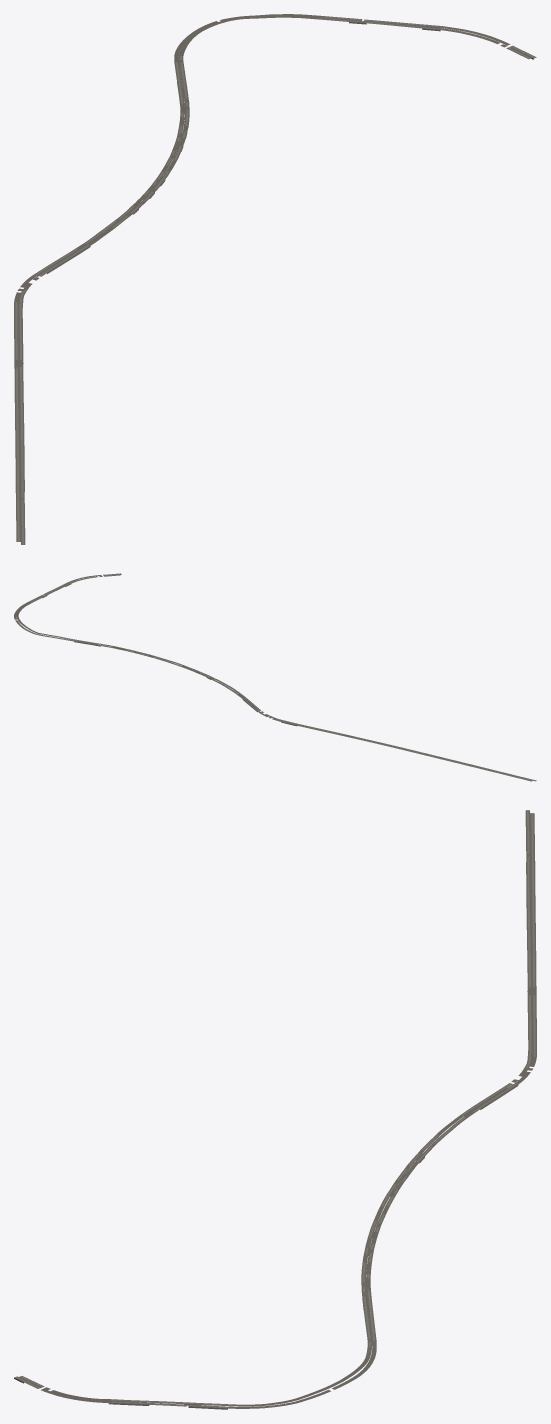
The model's file is br_k209_valley_line_track_lod2.gltf.
The picture shows the model from 3 angles, top to bottom: view 1: azimuth 90°, elevation 25°; view 2: azimuth 150°, elevation 25°; view 3: azimuth 270°, elevation 25°; orthographic projection. The views are drawn at different scales.
Parts seen in each view (by area): view 1: br_k209_valley_line_track_lod2; view 2: br_k209_valley_line_track_lod2; view 3: br_k209_valley_line_track_lod2.
Boxes of the visible parts, bbox=[...] form: br_k209_valley_line_track_lod2: bbox=[14, 14, 536, 544]; br_k209_valley_line_track_lod2: bbox=[14, 573, 536, 781]; br_k209_valley_line_track_lod2: bbox=[14, 810, 536, 1409].
Bounding box in the file's own units: 1274 × 44.52 × 499.
